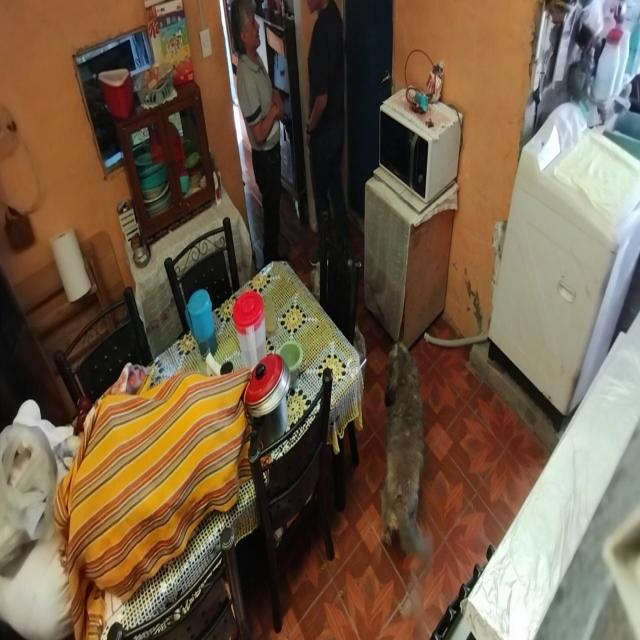adult: (232, 0, 288, 267), (300, 0, 350, 263)
